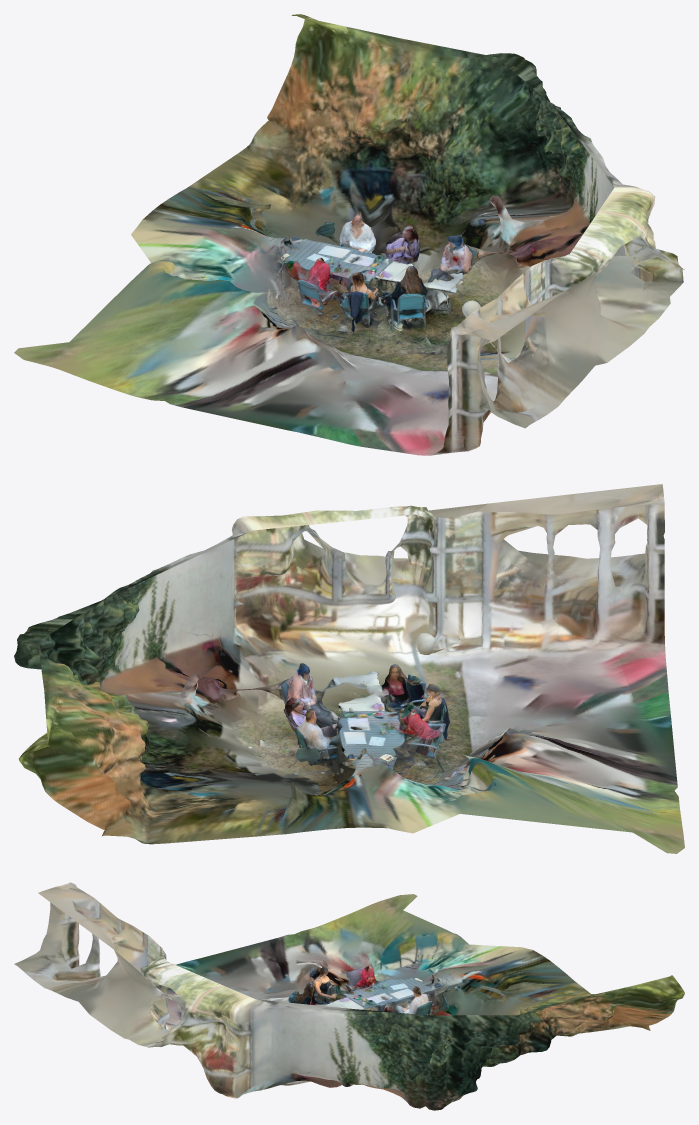
3 views of the same model, one above another, from view 1: azimuth 30°, elevation 25°; view 2: azimuth 150°, elevation 25°; view 3: azimuth 270°, elevation 25° (orthographic). The views are drawn at different scales.
Parts seen in each view (by area): view 1: photogrammetry; view 2: photogrammetry; view 3: photogrammetry.
Part boxes in pixels (left/top/right/bottom): photogrammetry: left=14, top=14, right=684, bottom=455; photogrammetry: left=14, top=484, right=684, bottom=853; photogrammetry: left=14, top=882, right=684, bottom=1110.
Size of the model in its own units: 9.82 by 2.31 by 12.39.
Materials: 1 (1 with a texture image).
